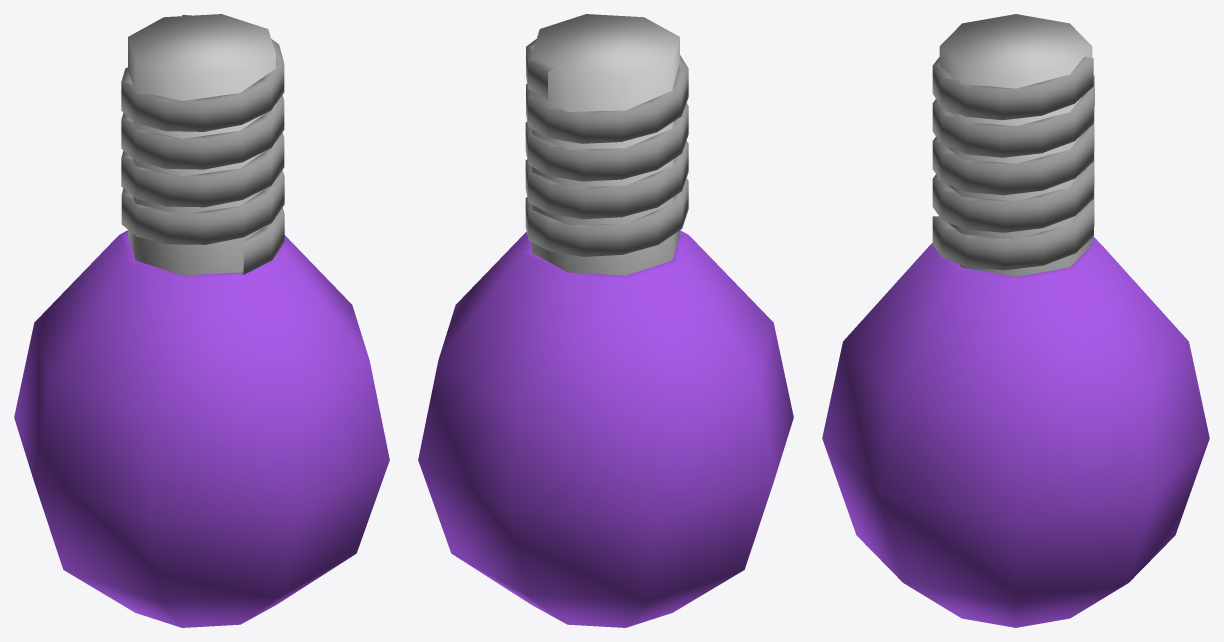
The model's file is bulb.glb.
3 renders of one model, left to right at view 1: azimuth 30°, elevation 25°; view 2: azimuth 150°, elevation 25°; view 3: azimuth 270°, elevation 25°, orthographic.
Parts seen in each view (by area): view 1: Bulb; view 2: Bulb; view 3: Bulb.
Boxes of the visible parts, x1,y1,x2,y2 form: Bulb: [14, 14, 389, 627]; Bulb: [418, 14, 793, 627]; Bulb: [822, 14, 1209, 627].
Bounding box in the file's own units: 0.1142 × 0.1786 × 0.1142.
